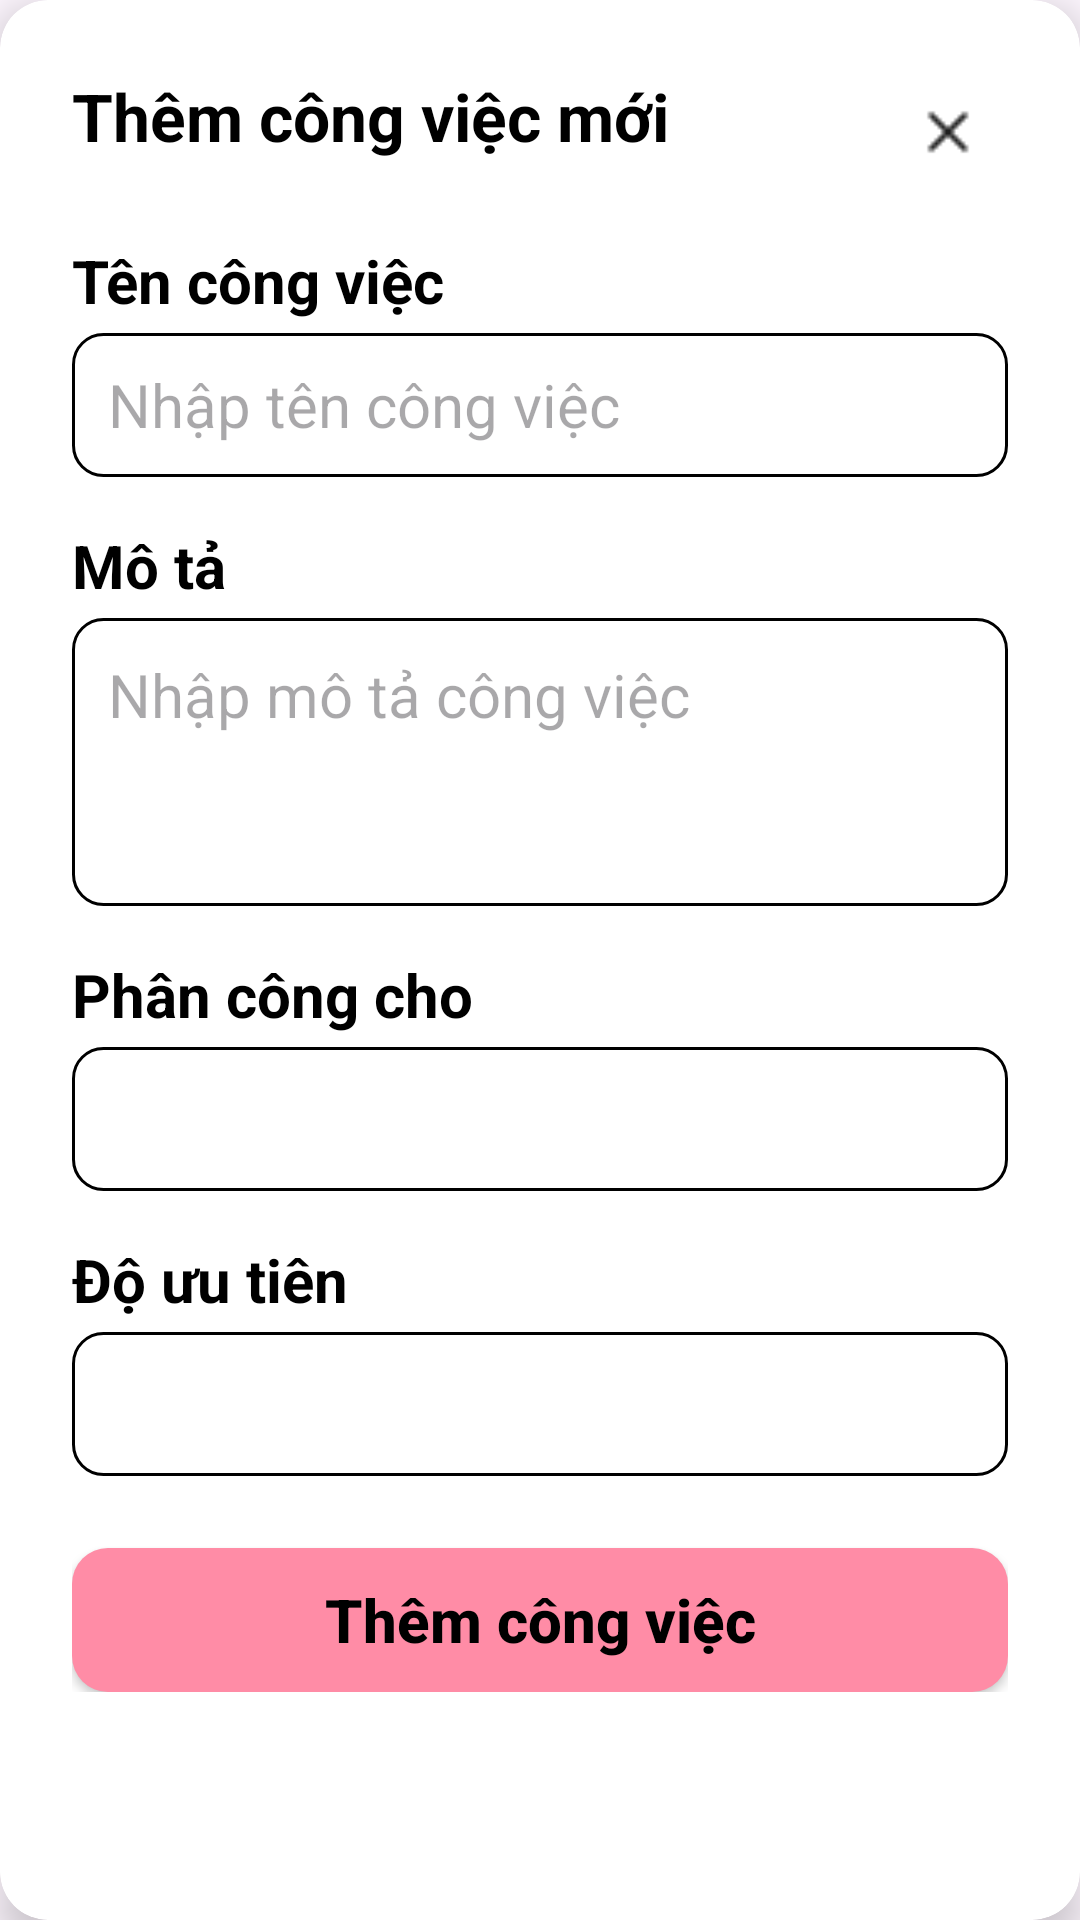

Named icons in this screenshot (1080px×1920px) and their bounding boxes, [x1,y1,x2,y2]:
close: [927,111,969,153]
